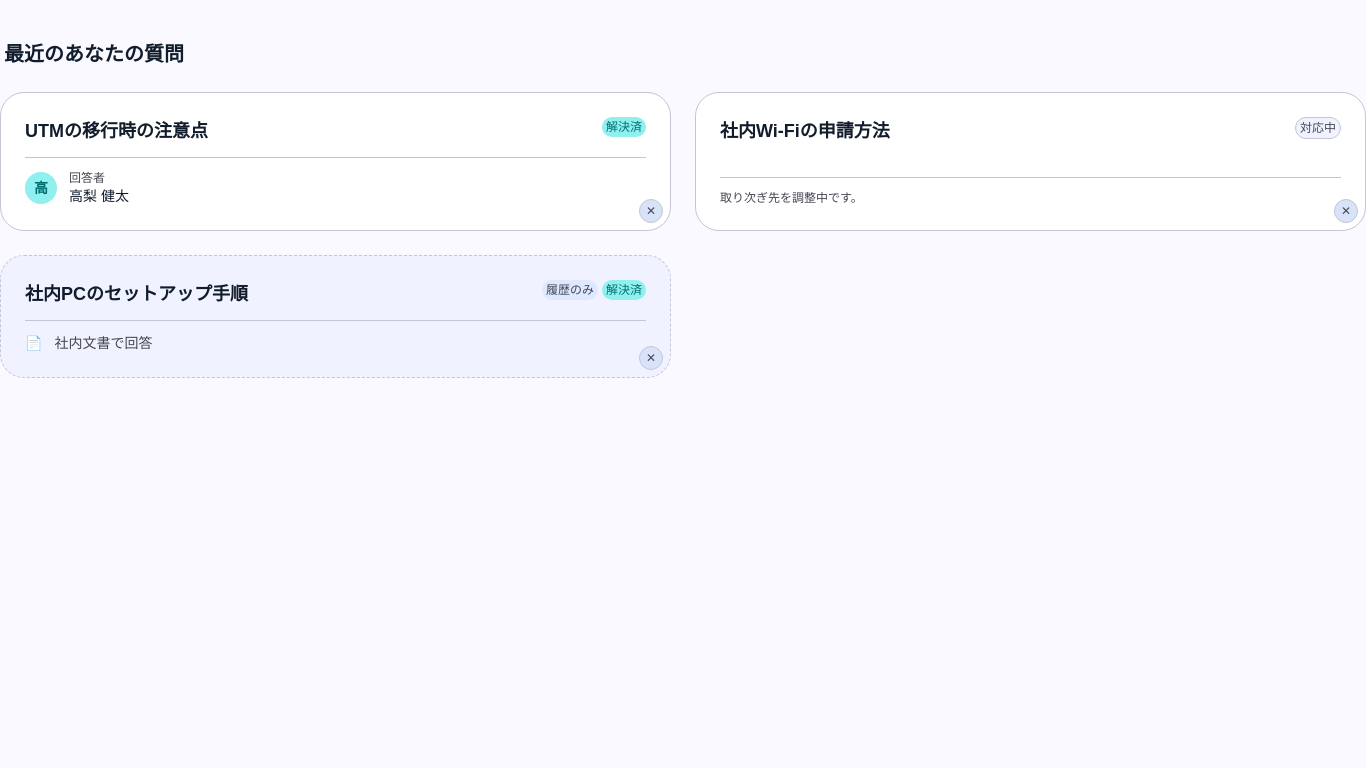
Test: RecentQuestions › shows the target question's title inside a modal dialog
Expected: the heading "UTMの移行時の注意点" is shown, [25,117,208,145]
Click the button named "「UTMの移行時の注意点」を削除": (651, 211) [639,199,663,223]
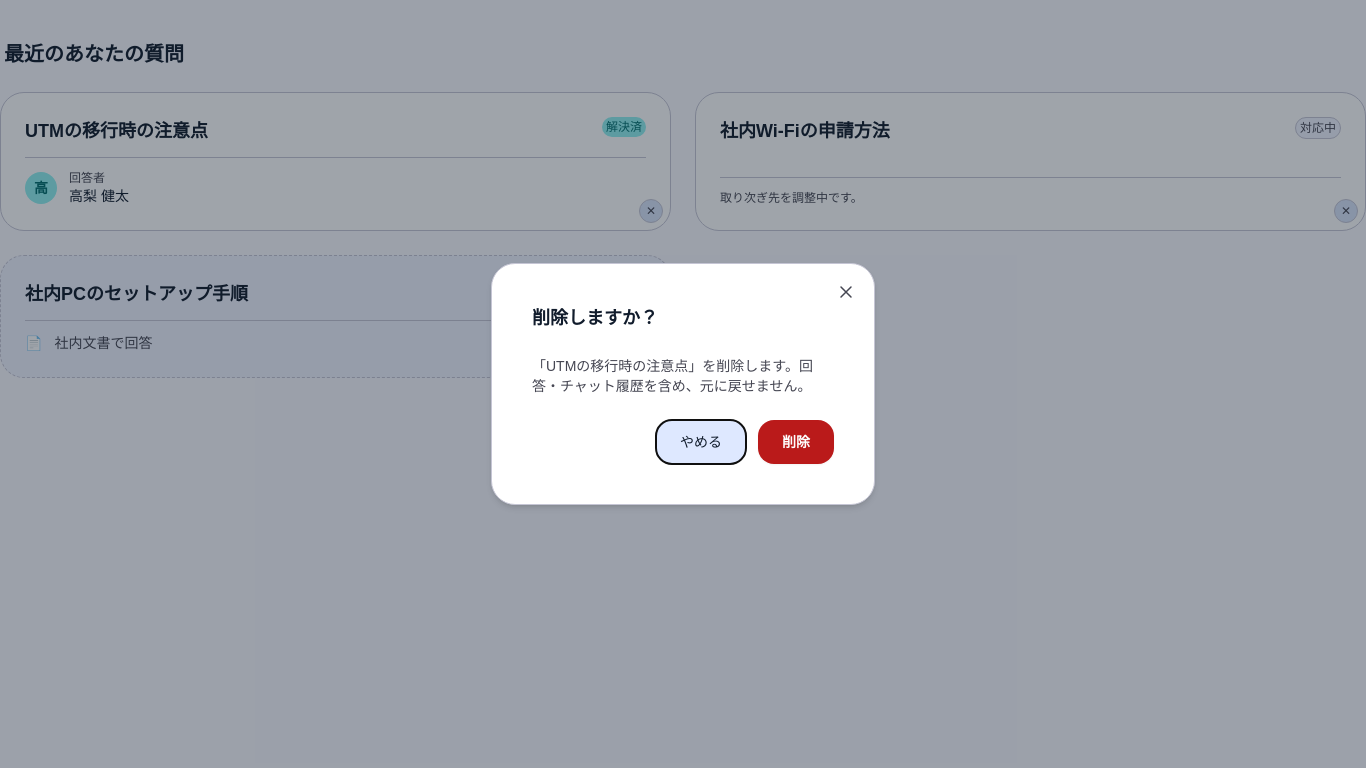
Expected: the text "「UTMの移行時の注意点」を削除します。回答・チャット履歴を含め、元に戻せません。" is shown, [532,356,834,396]
